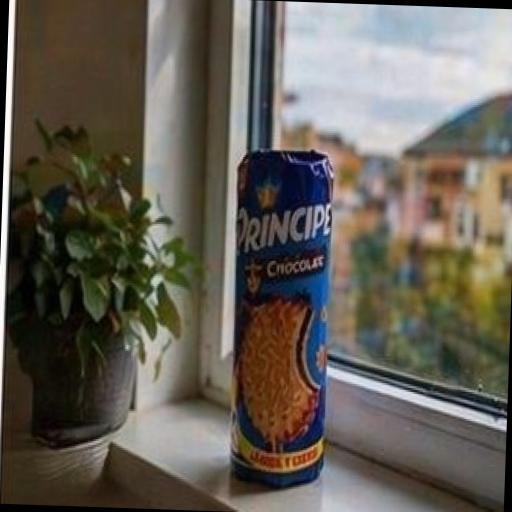prince: (172, 90, 430, 512)
